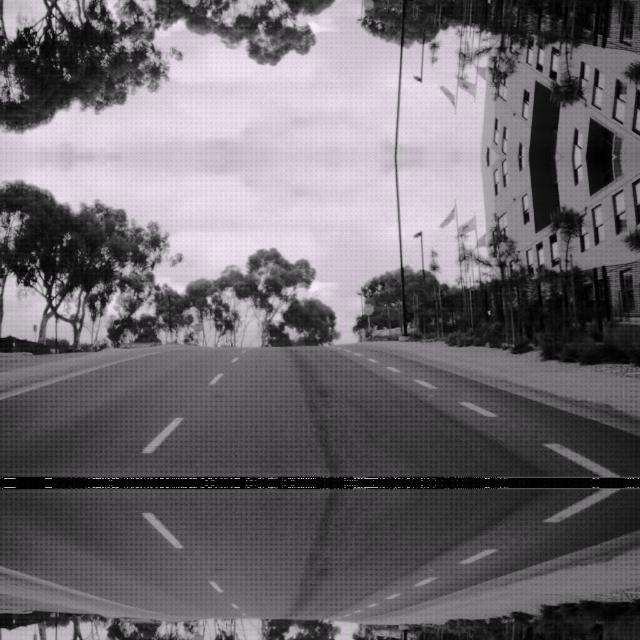stop: (363, 302, 373, 314), (363, 0, 374, 10), (192, 321, 202, 331), (192, 633, 203, 639)
